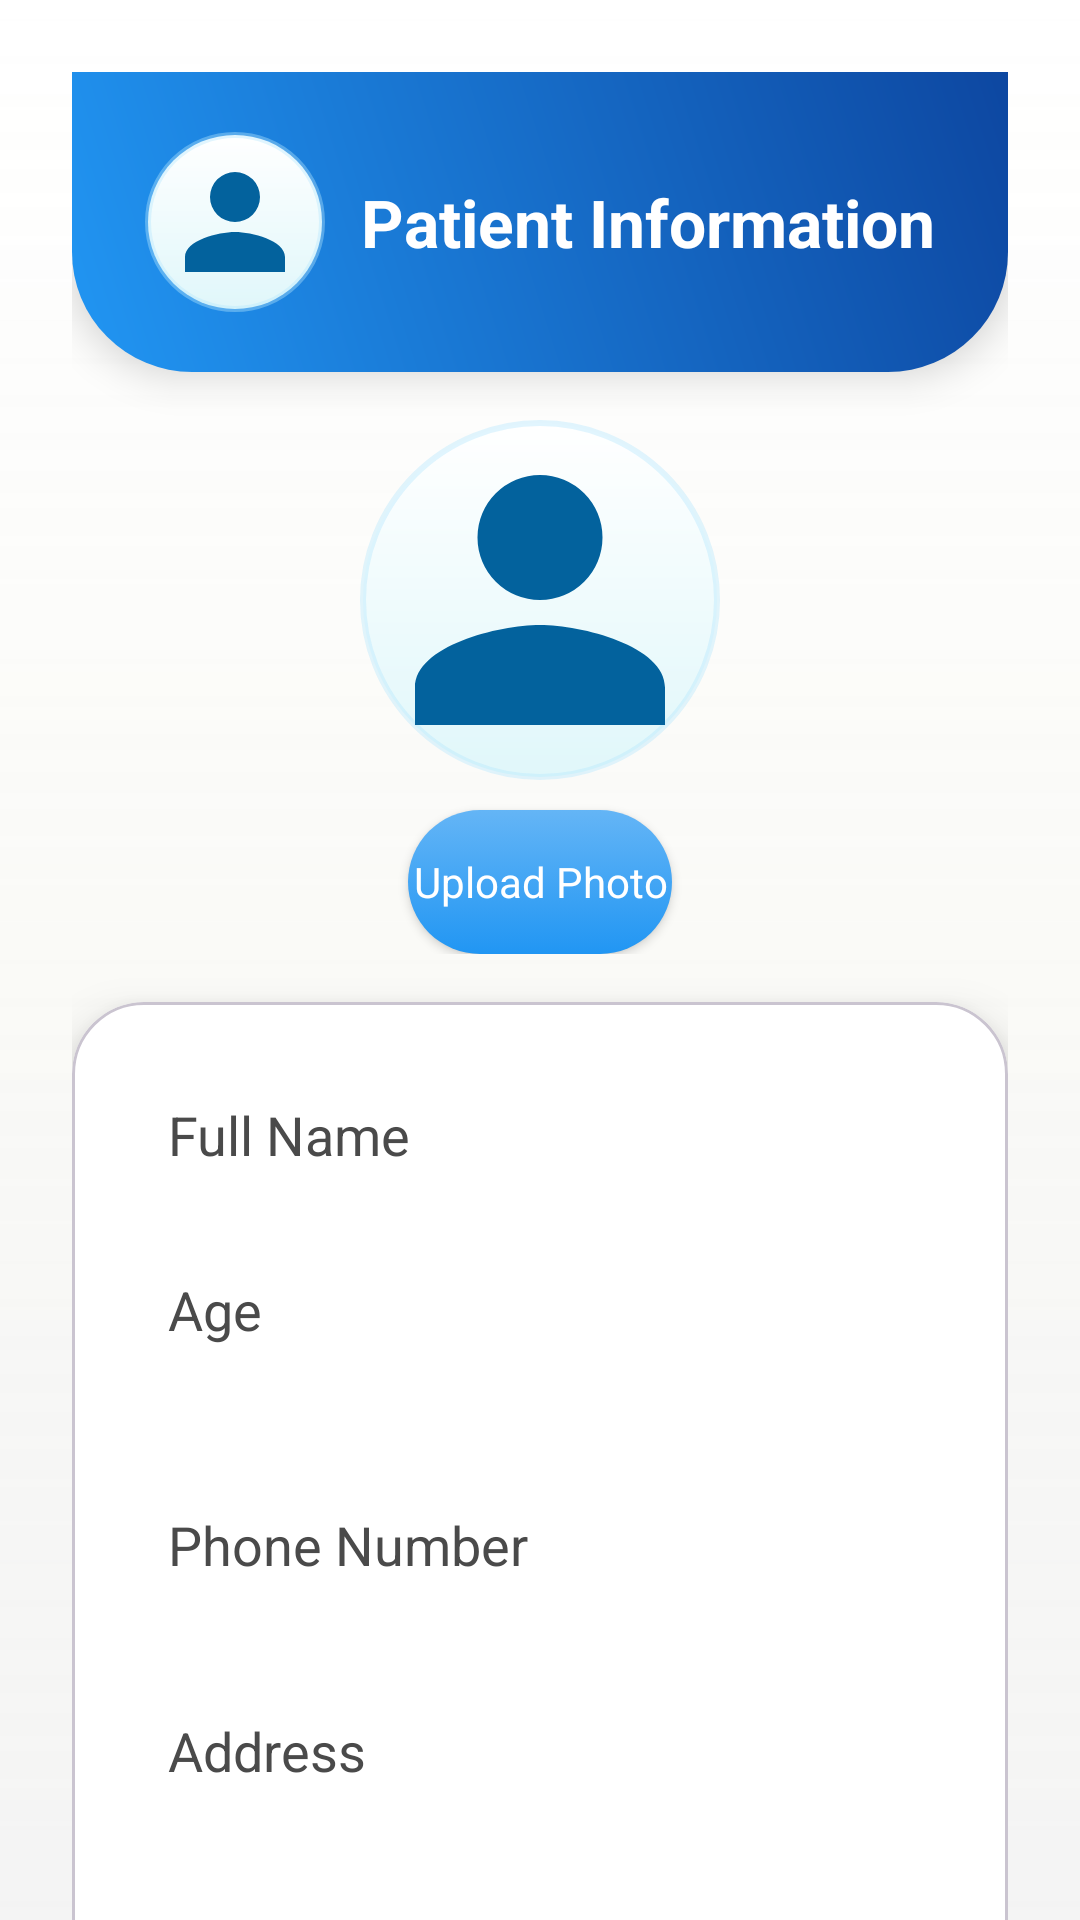

Named icons in this screenshot (1080 x 1920) and their centers, point (x, y):
user: point (235, 222), point (540, 600)
